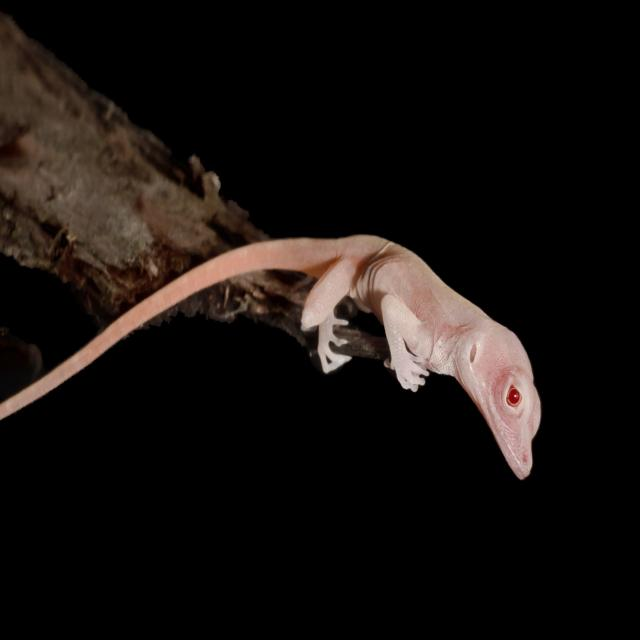Lizard: (0, 228, 539, 488)
